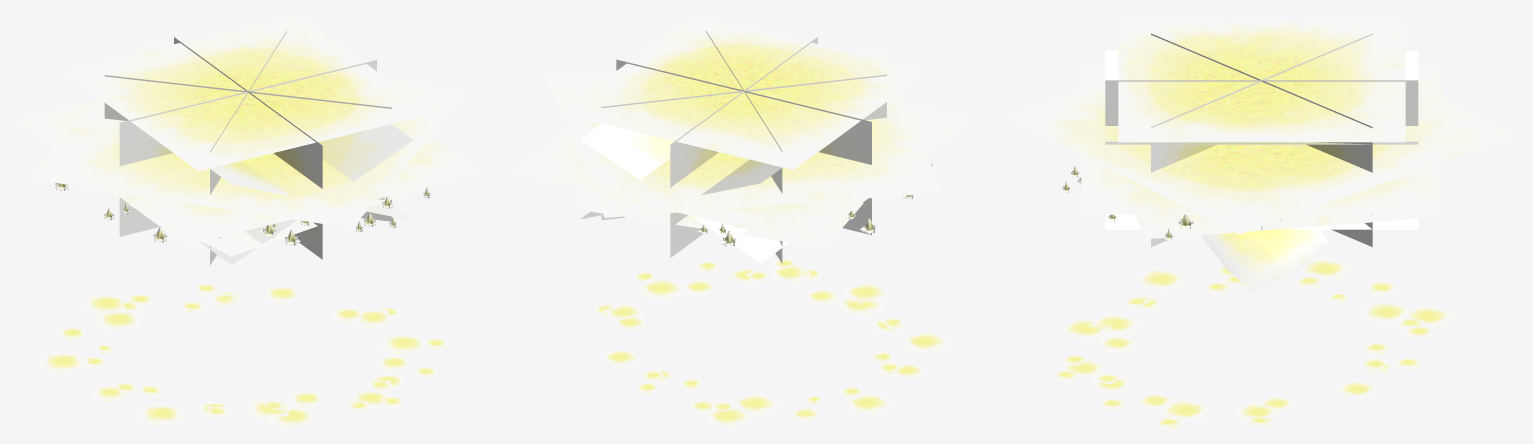
Rendered from n_ESWtree02a.glb.
The picture shows the model from 3 angles, left to right: view 1: azimuth 30°, elevation 25°; view 2: azimuth 150°, elevation 25°; view 3: azimuth 270°, elevation 25°; orthographic projection. The views are drawn at different scales.
Parts seen in each view (by area): view 1: n_ESWtree02a; view 2: n_ESWtree02a; view 3: n_ESWtree02a.
Boxes of the visible parts, x1,y1,x2,y2 form: n_ESWtree02a: [14, 14, 482, 429]; n_ESWtree02a: [511, 14, 976, 429]; n_ESWtree02a: [1005, 17, 1517, 429].
Size of the model in its own units: 39.14 by 23.05 by 39.14.
Materials: 1 (1 with a texture image).
